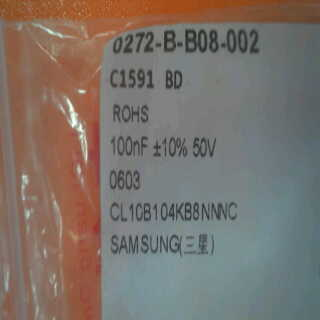100nF: (108, 131, 150, 164)
